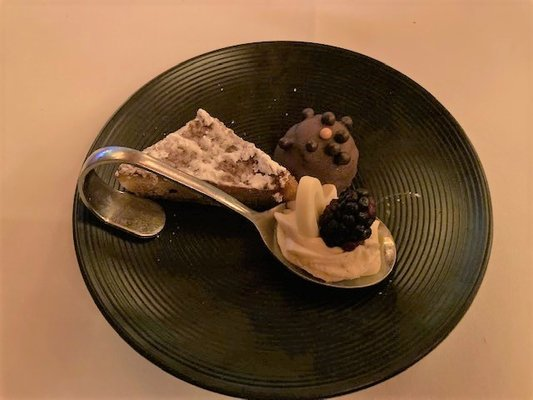salad: (85, 137, 397, 288)
